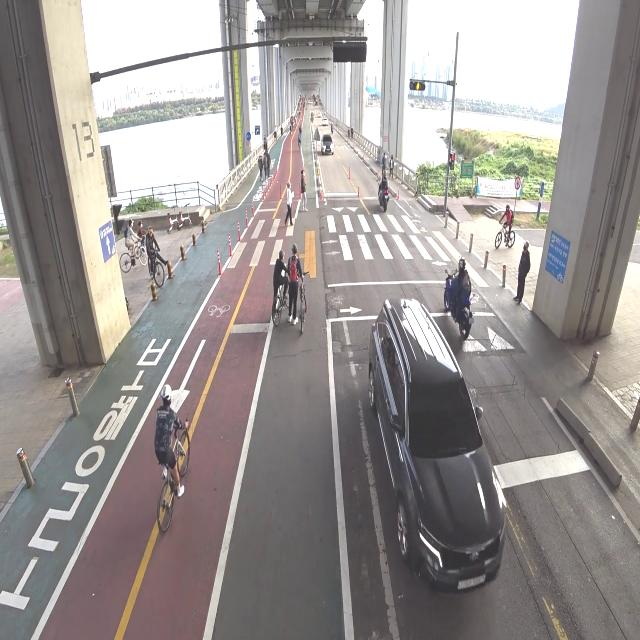Car: (352, 271, 510, 614), (320, 130, 336, 162), (320, 113, 330, 128)
Motorcycle: (443, 256, 474, 341), (375, 167, 390, 213), (329, 120, 337, 140)
